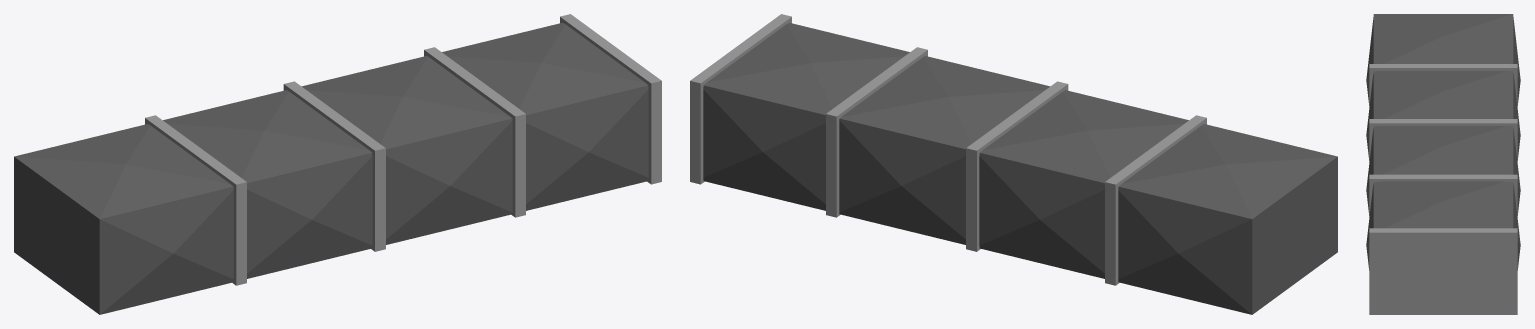
The model's file is vents_A_straight.FBX.
3 views of the same model, side by side, from view 1: azimuth 30°, elevation 25°; view 2: azimuth 150°, elevation 25°; view 3: azimuth 270°, elevation 25° (orthographic). The views are drawn at different scales.
Visible parts, largest first — view 1: vents_A_straight; view 2: vents_A_straight; view 3: vents_A_straight.
Boxes of the visible parts, x1,y1,x2,y2 form: vents_A_straight: (14,14,661,314); vents_A_straight: (690,14,1337,314); vents_A_straight: (1366,14,1520,314).
Bounding box in the file's own units: 104 × 19.27 × 30.46.
